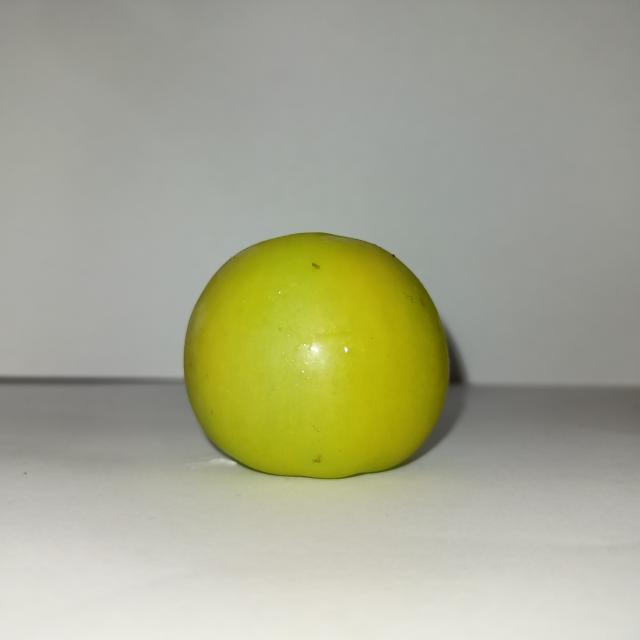Red: (182, 230, 451, 479)
